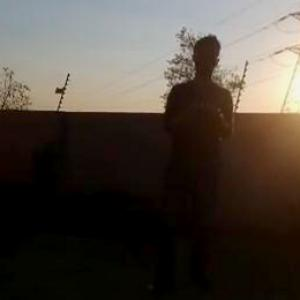follow: (135, 31, 237, 287)
